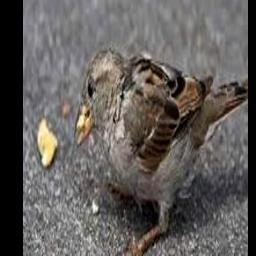Sparrow: (73, 48, 248, 256)
